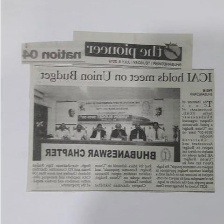news_paper: (21, 30, 216, 194)
